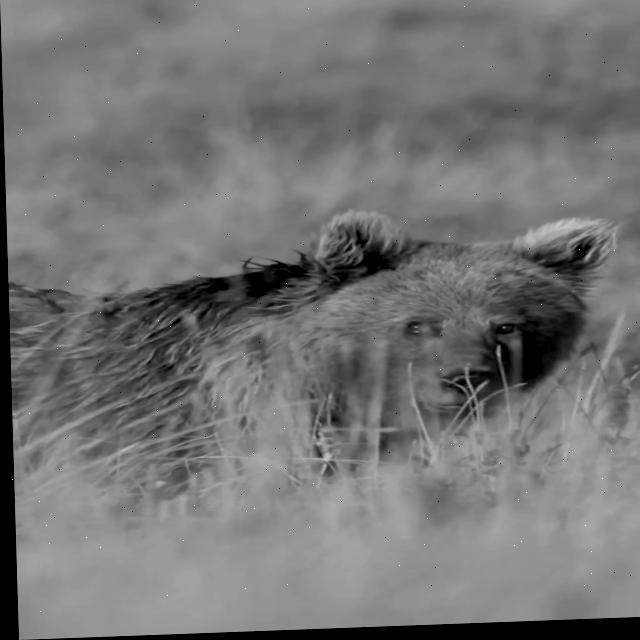Bear: (7, 199, 629, 518)
